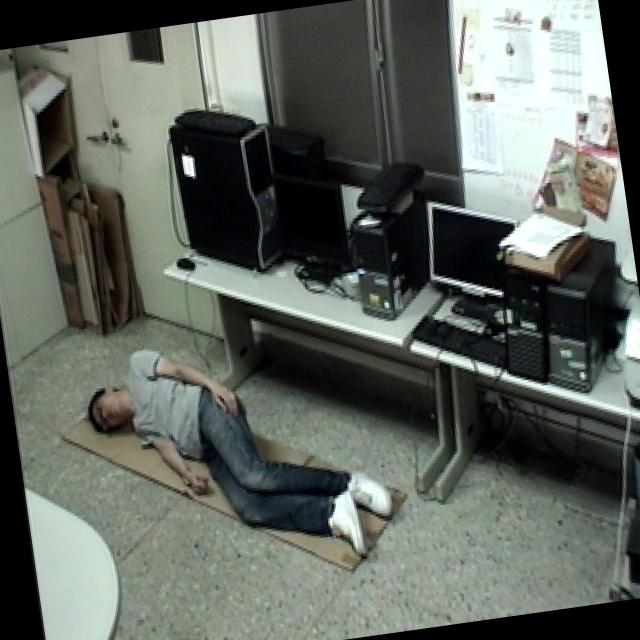lie: (72, 308, 402, 594)
